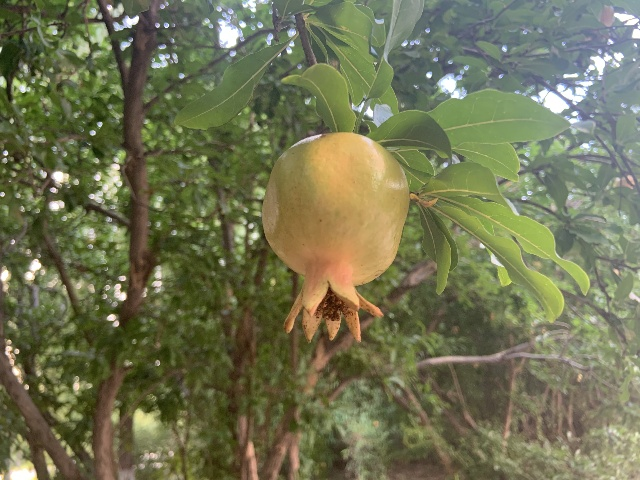mid-growth: (261, 130, 410, 345)
